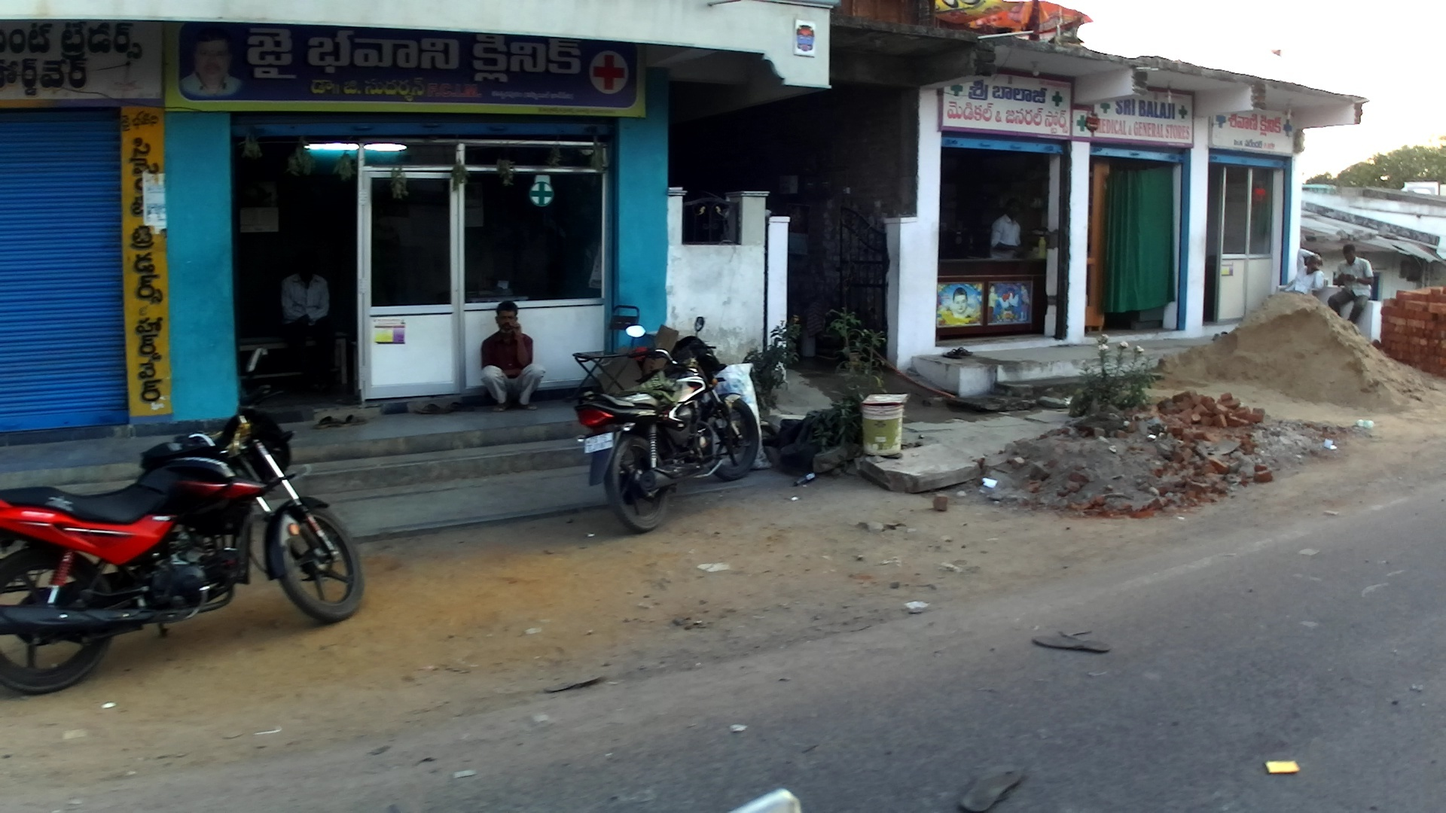motorcycle: (1, 348, 367, 698), (573, 315, 761, 534)
person: (478, 300, 545, 414), (279, 257, 331, 385), (1329, 243, 1374, 324), (987, 198, 1024, 260), (1298, 247, 1327, 298)
